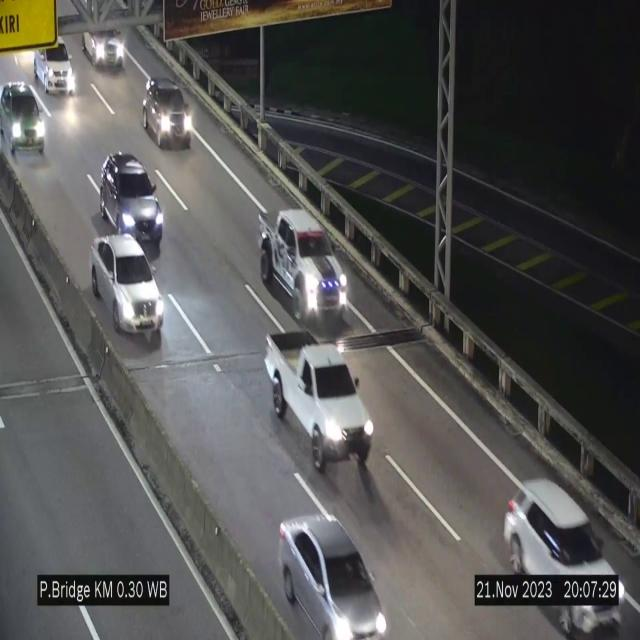Car: (497, 450, 625, 640), (279, 516, 387, 639), (92, 236, 164, 335), (98, 151, 164, 248), (138, 71, 198, 157), (0, 82, 50, 162), (78, 25, 133, 73), (34, 40, 76, 93)
Truck: (264, 329, 374, 471), (258, 209, 348, 325)
